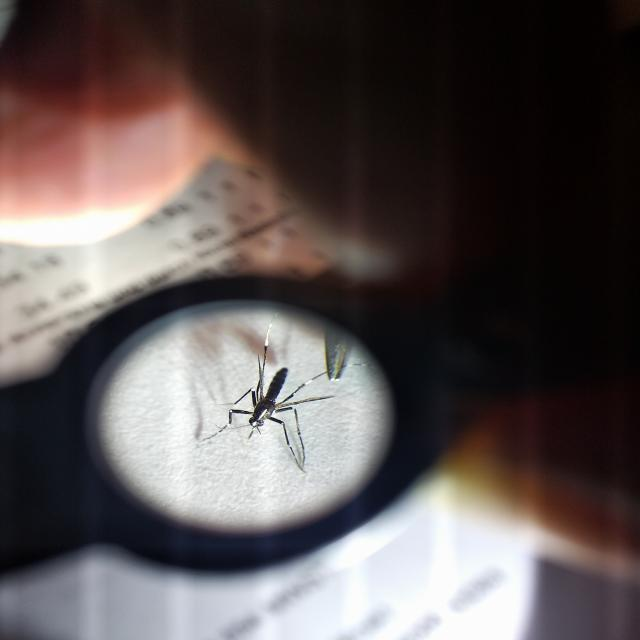albopictus: (192, 324, 356, 468)
